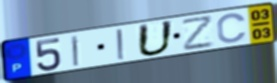5: (33, 36, 63, 72)
C: (216, 12, 249, 44)
I: (114, 27, 127, 62), (70, 34, 80, 68)
U: (136, 19, 176, 58)
Z: (181, 13, 216, 52)
